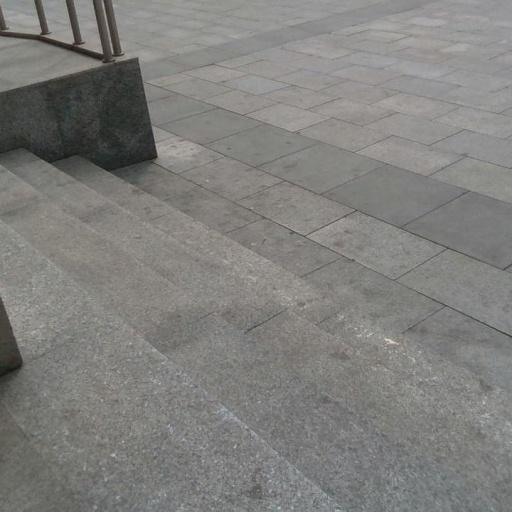stairs: (0, 150, 511, 510)
